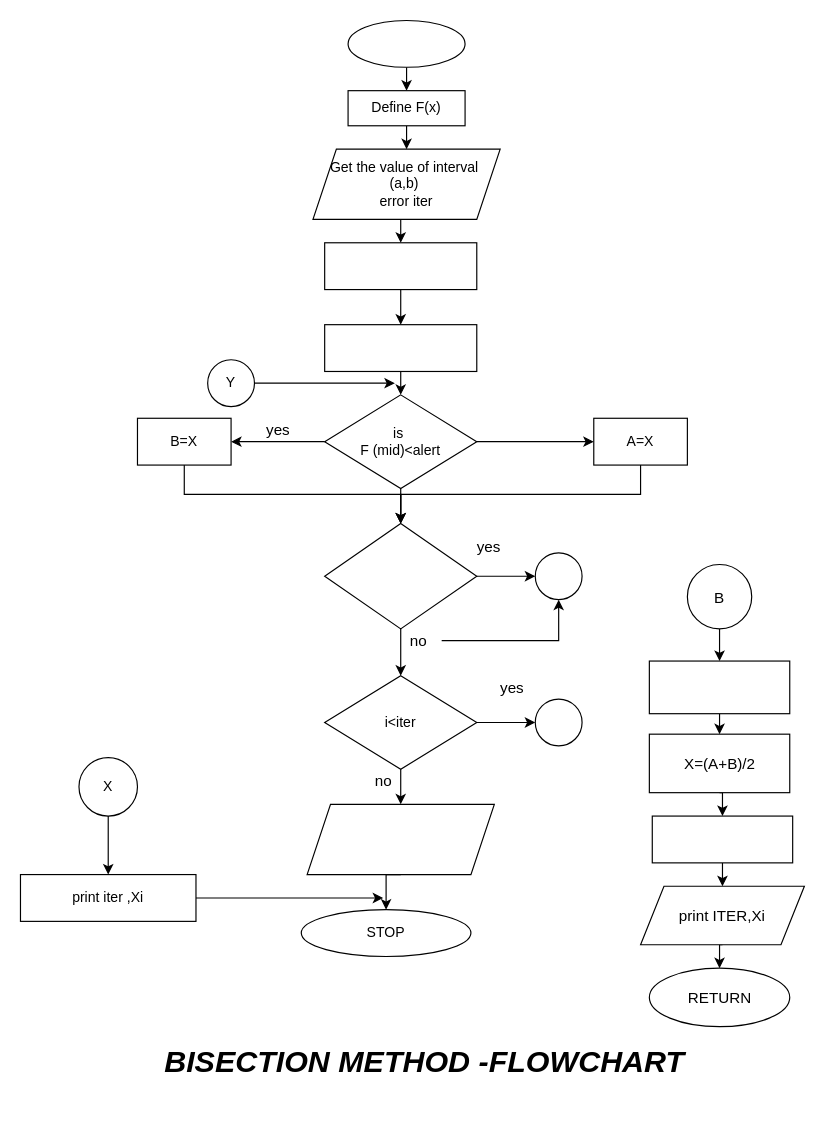
Image size: 825x1129. Some labels were removed from this diagram. The shapes that lost their labels are listed below. From the top down, each one's centre as x and y in pixels, then its label:
the point at 406,43: start
the point at 400,266: initialize i=1
the point at 400,347: call subroutline bisection md
the point at 400,575: is Abs (XI-X) <Alert
the point at 719,687: suboutline bisect
the point at 400,839: print solution does not converge
the point at 722,839: iter ++
